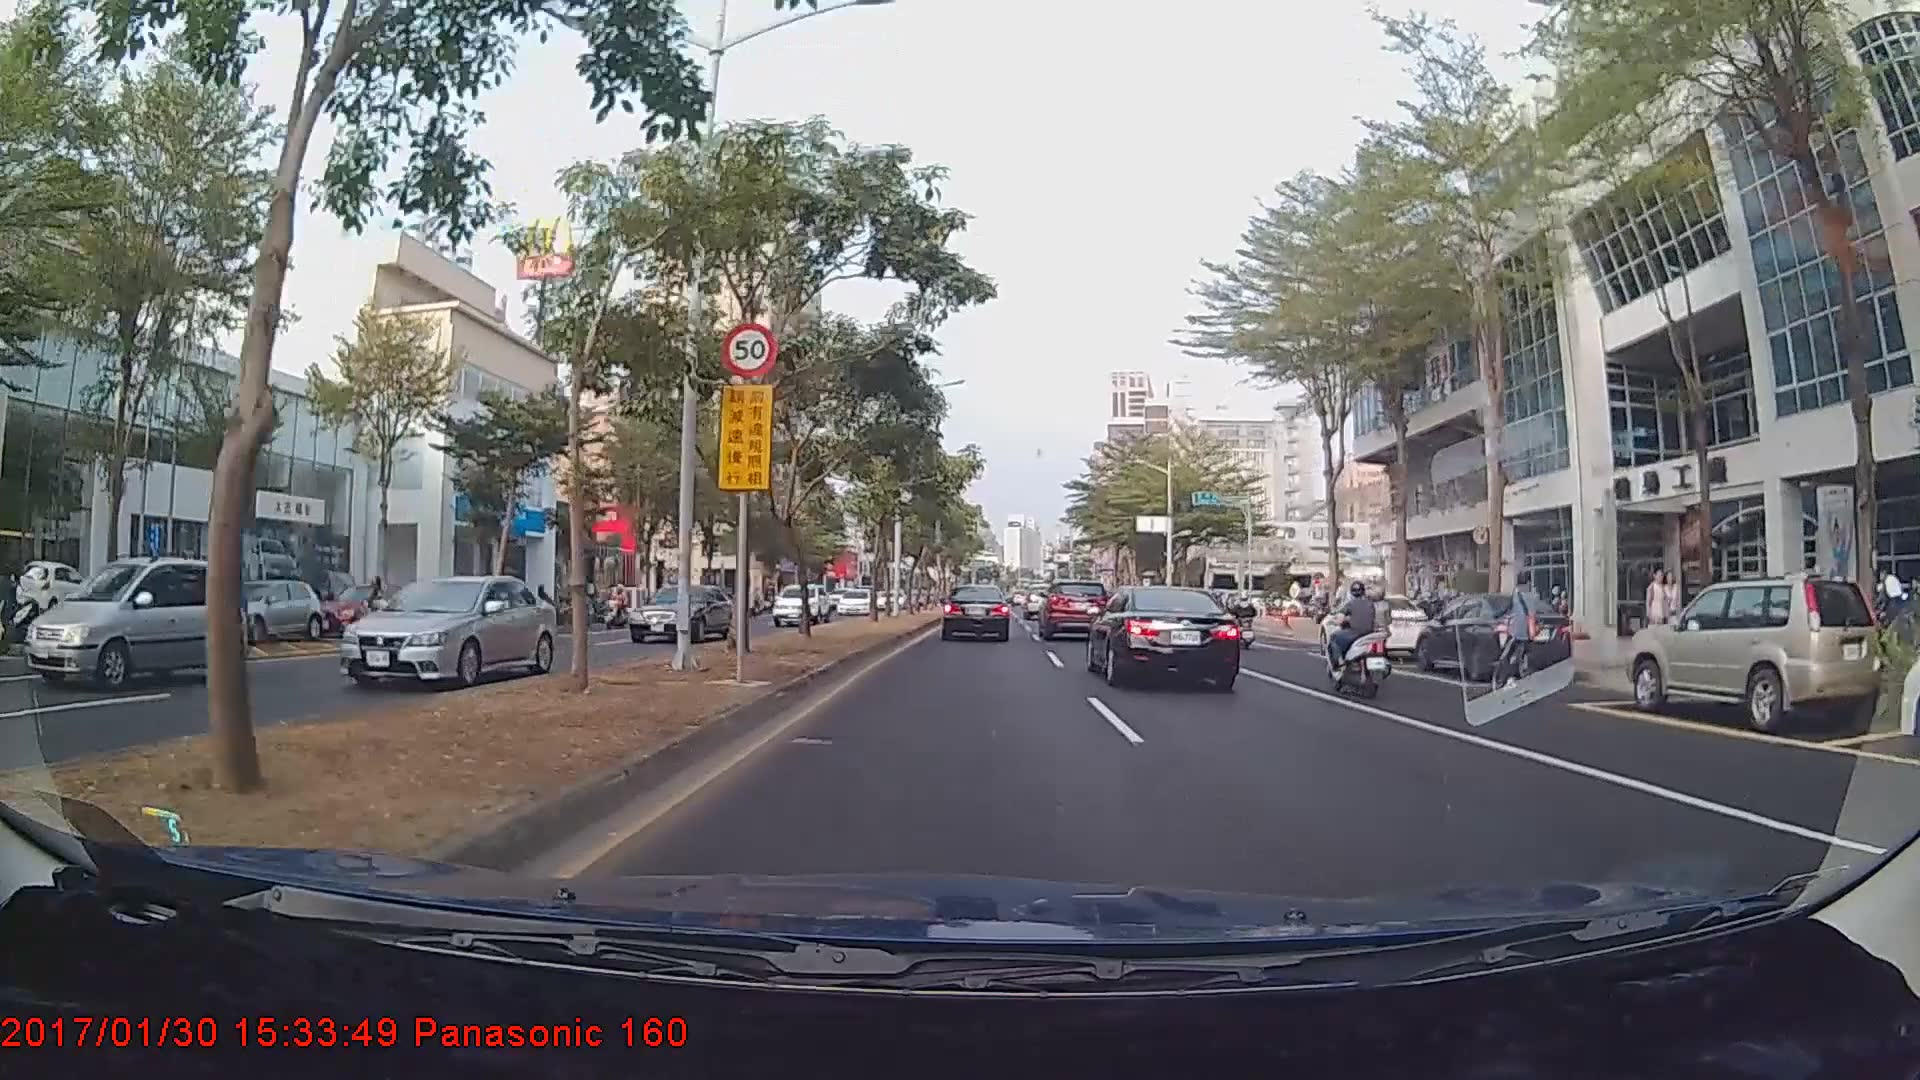pedestrian: (1646, 569, 1673, 656), (1660, 571, 1685, 653)
rider: (1319, 577, 1401, 702), (1483, 573, 1557, 710), (1362, 583, 1414, 679), (1228, 593, 1262, 645)
vehicle: (1630, 570, 1877, 731), (25, 555, 247, 693), (334, 572, 558, 688), (1086, 580, 1243, 691), (1412, 588, 1572, 680), (1315, 591, 1435, 663), (210, 577, 324, 645), (625, 578, 735, 641), (307, 579, 417, 637), (1037, 580, 1109, 639), (941, 582, 1012, 642), (769, 583, 830, 626), (1022, 582, 1061, 618), (835, 586, 871, 616)
